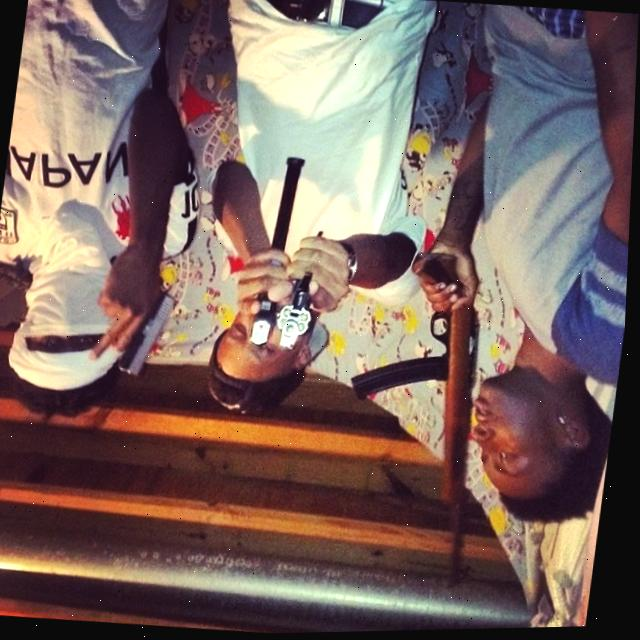firearm: (333, 246, 509, 599)
pistol: (119, 290, 179, 381), (276, 274, 323, 353), (250, 294, 279, 351)
